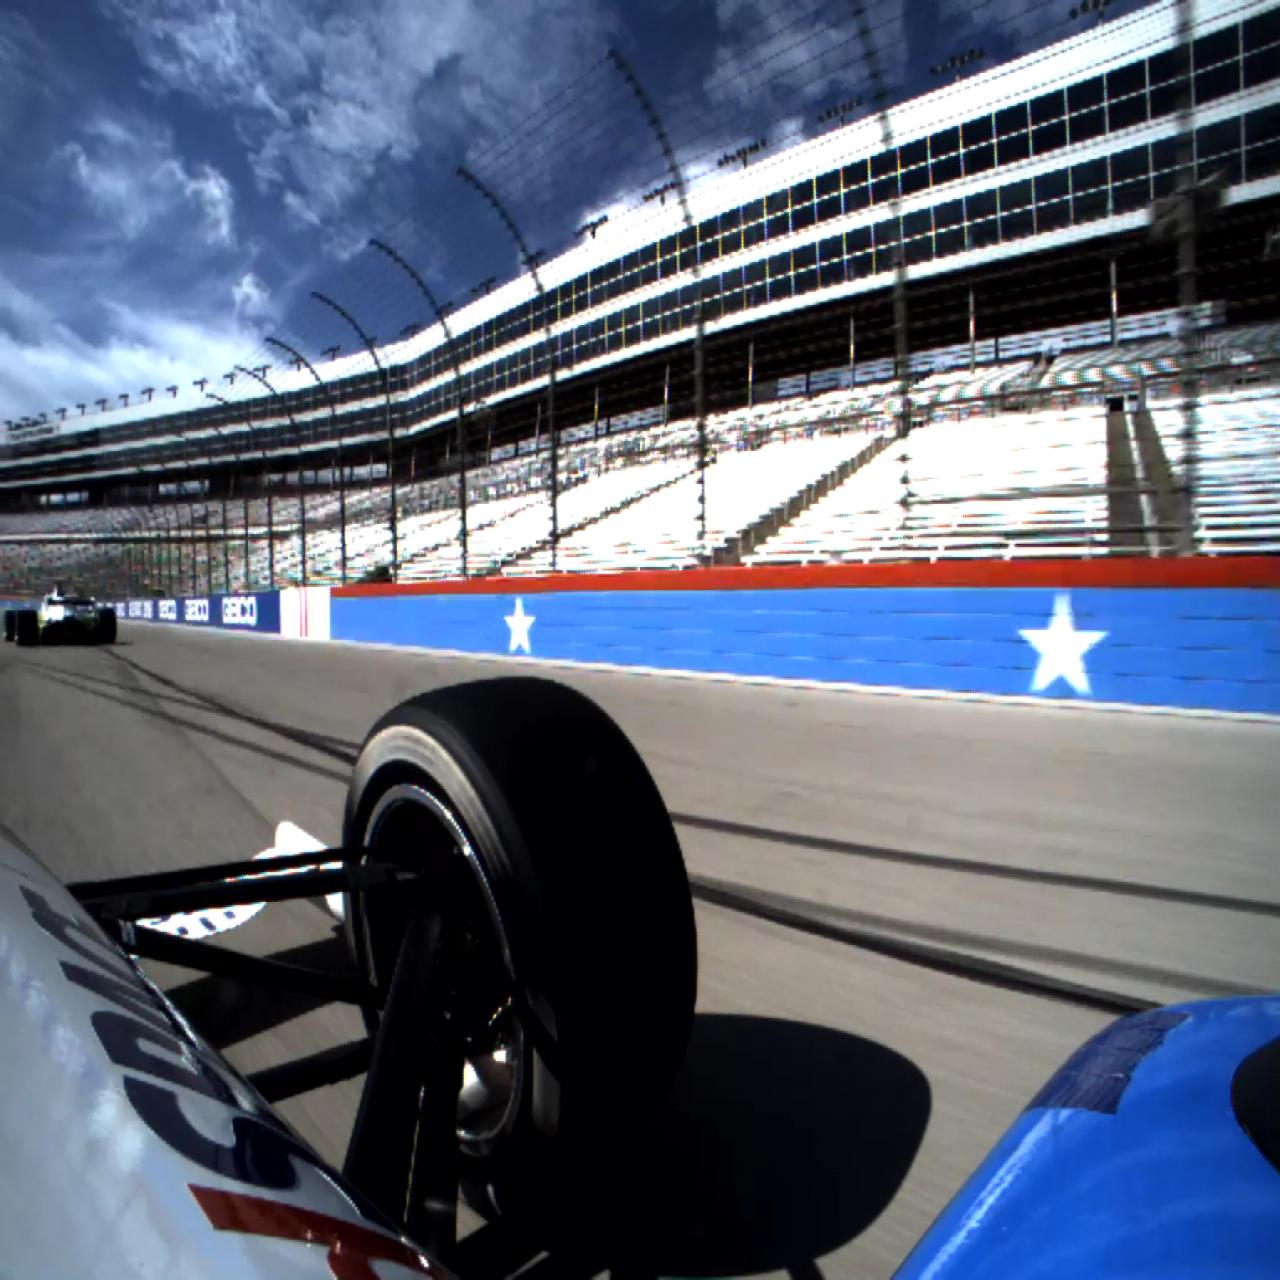AV: (2, 580, 117, 647)
Wheel: (343, 675, 699, 1231), (18, 610, 39, 647), (97, 608, 117, 645), (5, 610, 20, 642)
